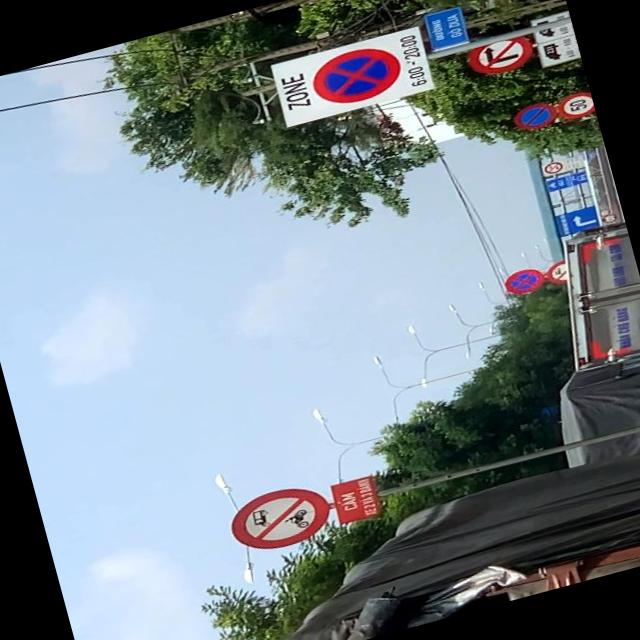P-104: (224, 478, 335, 556)
P-130: (305, 37, 405, 110)
